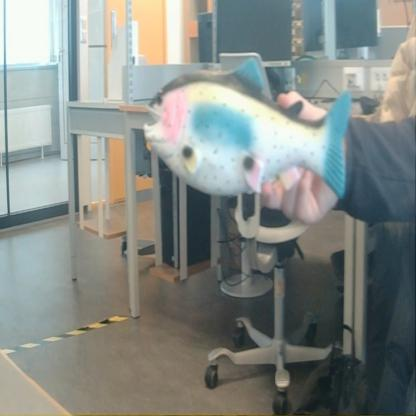rubberfish: (140, 55, 354, 202)
